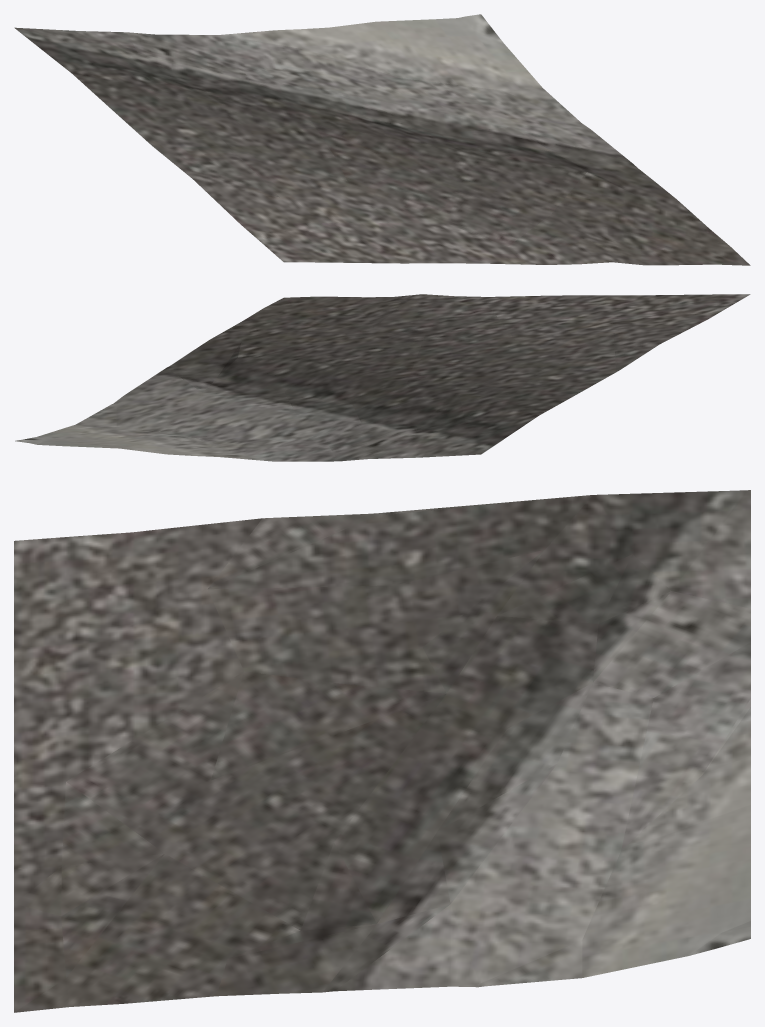
3 renders of one model, top to bottom at view 1: azimuth 30°, elevation 25°; view 2: azimuth 150°, elevation 25°; view 3: azimuth 270°, elevation 25°, orthographic. The views are drawn at different scales.
Bounding box in the file's own units: 0.8373 × 0.2648 × 0.8374.
3 materials, 3 textured.
